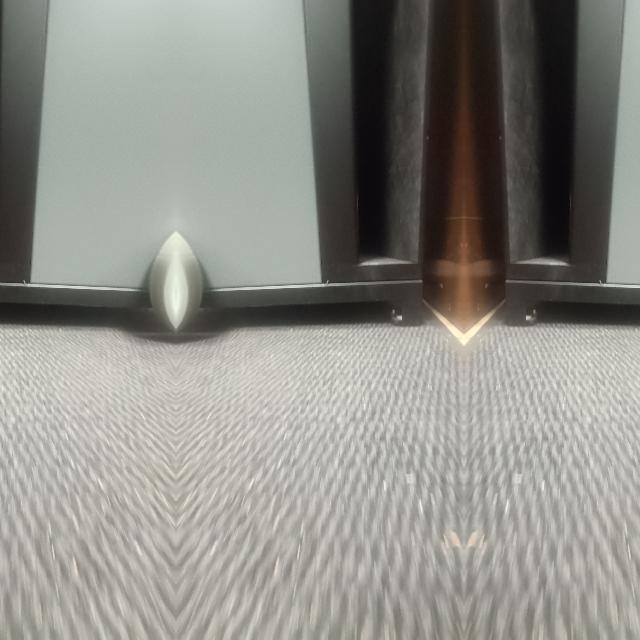obstacle: (175, 65, 423, 338), (0, 65, 175, 338), (504, 65, 640, 338)
